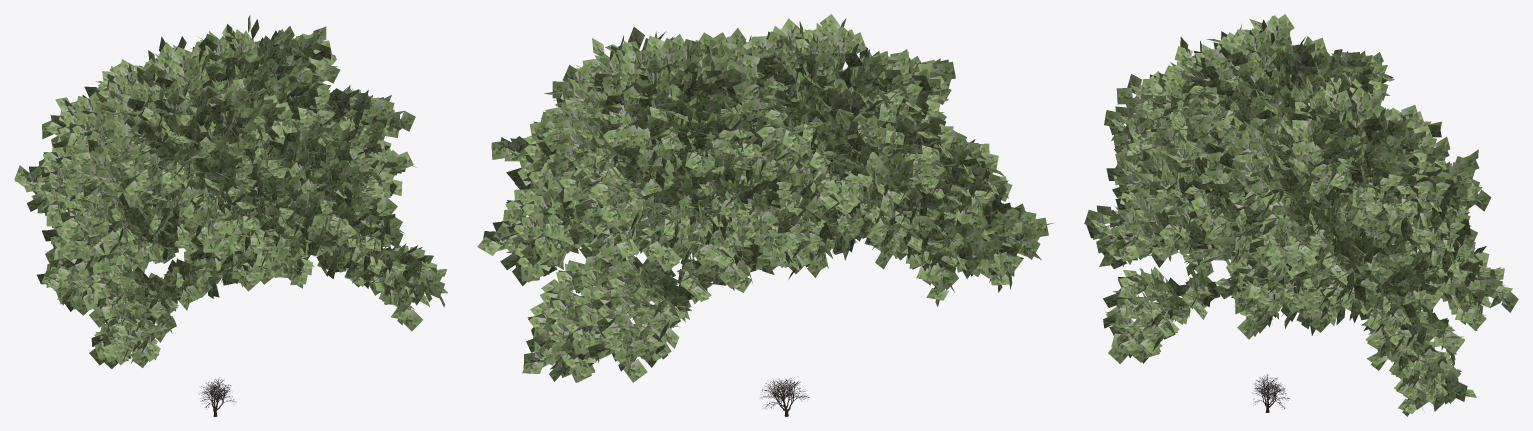
File: FBX_WE17_QuercusAgrifolia_4_2.fbx
3 views of the same model, side by side, from view 1: azimuth 30°, elevation 25°; view 2: azimuth 150°, elevation 25°; view 3: azimuth 270°, elevation 25° (orthographic). The views are drawn at different scales.
Visible parts, largest first — view 1: Leaf01_4, Bark01_4; view 2: Leaf01_4, Bark01_4; view 3: Leaf01_4, Bark01_4.
Part boxes in pixels (box(x1,y1,x2,y2)): Leaf01_4: box(14, 15, 447, 368); Bark01_4: box(198, 377, 236, 416); Leaf01_4: box(477, 14, 1054, 382); Bark01_4: box(761, 378, 809, 416); Leaf01_4: box(1084, 14, 1518, 416); Bark01_4: box(1252, 374, 1289, 412).
Size of the model in its own units: 106 by 90.08 by 96.6.
